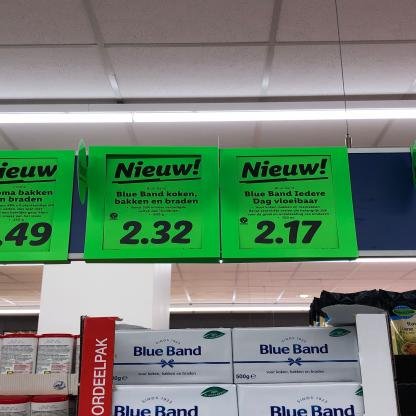prtg: (104, 155, 203, 252), (238, 156, 340, 250), (1, 160, 58, 254)
